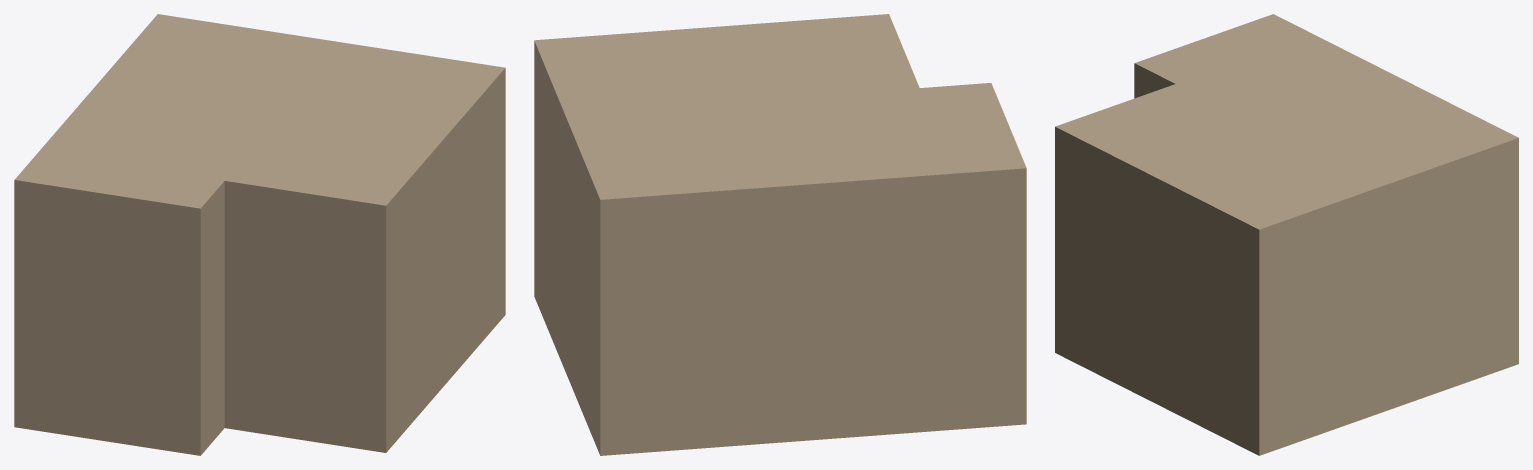
The model's file is bld_55879615.dae.
3 renders of one model, left to right at view 1: azimuth 30°, elevation 25°; view 2: azimuth 150°, elevation 25°; view 3: azimuth 270°, elevation 25°, orthographic. The views are drawn at different scales.
Visible parts, largest first — view 1: bld_55879615; view 2: bld_55879615; view 3: bld_55879615.
Part boxes in pixels (box(x1,y1,x2,y2)): bld_55879615: box(14, 14, 505, 455); bld_55879615: box(534, 14, 1026, 455); bld_55879615: box(1055, 14, 1518, 455).
Size of the model in its own units: 16.36 by 14.87 by 8.
